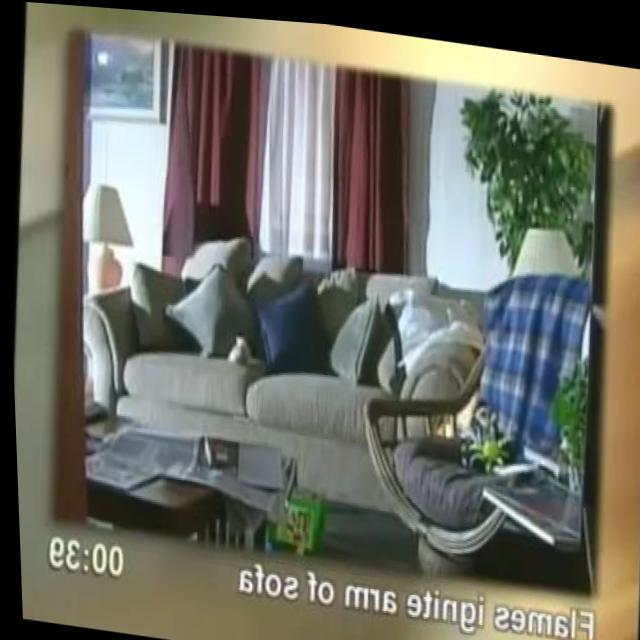fire: (428, 371, 476, 441)
